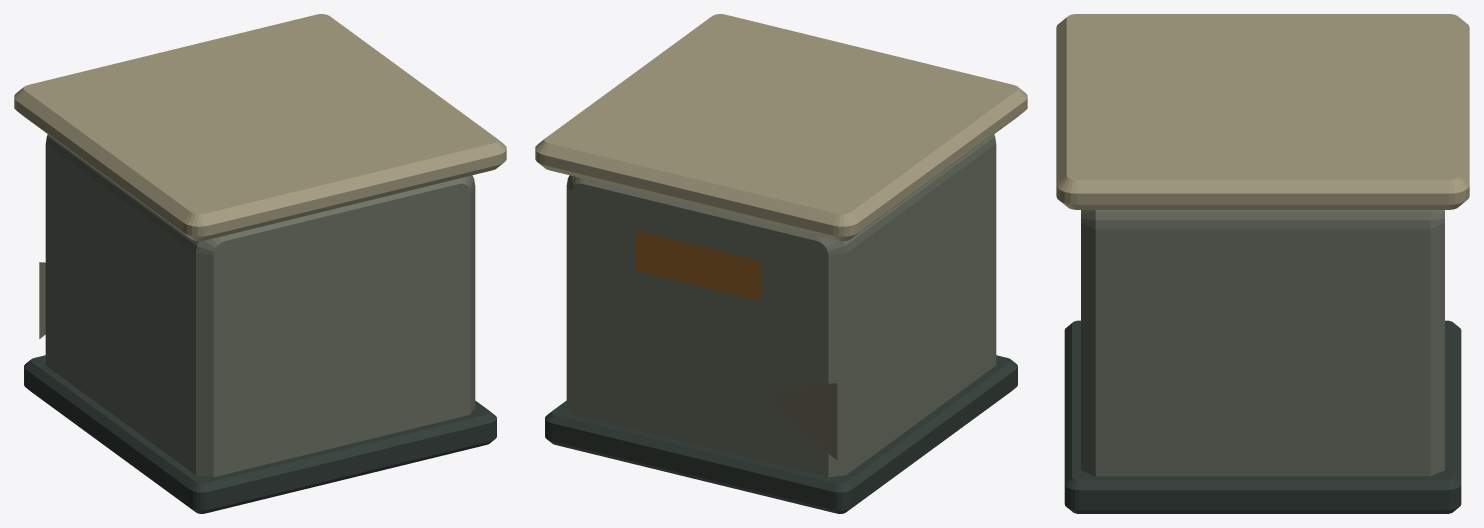
File: exhibit_plinth.obj
3 renders of one model, left to right at view 1: azimuth 30°, elevation 25°; view 2: azimuth 150°, elevation 25°; view 3: azimuth 270°, elevation 25°, orthographic. The views are drawn at different scales.
Parts seen in each view (by area): view 1: base, plinth_cap, plinth_foot; view 2: base, plinth_cap, plinth_foot, blank_caption, plinth_damage; view 3: base, plinth_cap, plinth_foot.
Boxes of the visible parts, box(x1,y1,x2,y2) form: base: box(45, 134, 475, 477); plinth_cap: box(14, 14, 506, 241); plinth_foot: box(24, 355, 496, 513); base: box(566, 134, 996, 477); plinth_cap: box(535, 14, 1027, 241); plinth_foot: box(545, 355, 1017, 513); blank_caption: box(636, 230, 760, 300); plinth_damage: box(763, 383, 837, 459); base: box(1081, 210, 1444, 476); plinth_cap: box(1056, 14, 1469, 209); plinth_foot: box(1064, 320, 1461, 513).
Bounding box in the file's own units: 1 × 0.9 × 1.
